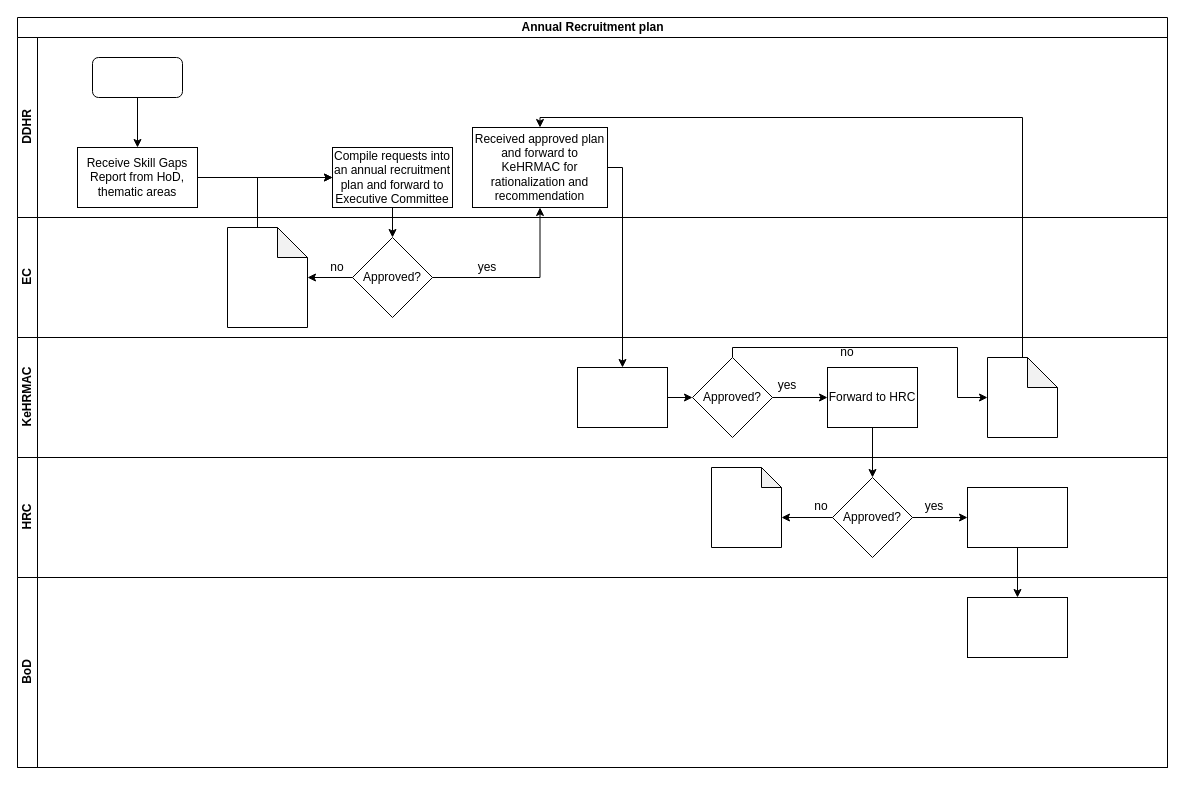
Some shapes in this 1185 by 785 pixel diagram are drawn without their labels. The shapes that lost their labels are listed below. From the top down, each one's centre as x and y in pixels, then its label:
the point at 137,77: Start
the point at 267,277: EC Comments
the point at 622,397: Received by KeHRMAC
the point at 1022,397: KeHRMAC Comments
the point at 746,507: HRC Comments
the point at 1017,517: Forward to BoD
